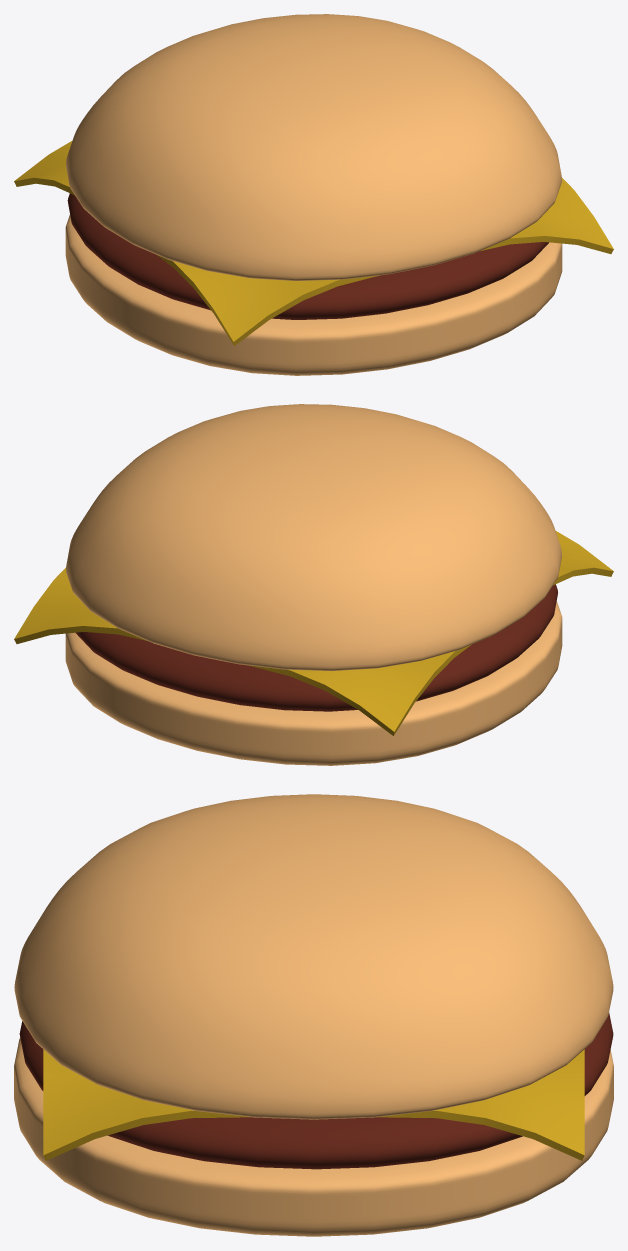
The model's file is hamburgerCompr.glb.
The picture shows the model from 3 angles, top to bottom: view 1: azimuth 30°, elevation 25°; view 2: azimuth 150°, elevation 25°; view 3: azimuth 270°, elevation 25°; orthographic projection. The views are drawn at different scales.
Parts seen in each view (by area): view 1: Куб.002, Куб, Куб.001, Плоскость; view 2: Куб.002, Куб, Куб.001, Плоскость; view 3: Куб.002, Куб, Куб.001, Плоскость.
Boxes of the visible parts, x1,y1,x2,y2 form: Куб.002: [66, 14, 561, 280]; Куб: [65, 215, 562, 375]; Куб.001: [67, 193, 548, 319]; Плоскость: [14, 141, 613, 345]; Куб.002: [66, 404, 561, 670]; Куб: [65, 601, 562, 765]; Куб.001: [75, 584, 557, 711]; Плоскость: [14, 531, 613, 735]; Куб.002: [14, 794, 613, 1119]; Куб: [14, 1038, 613, 1236]; Куб.001: [19, 1012, 613, 1169]; Плоскость: [43, 1049, 584, 1160].
Bounding box in the file's own units: 9.17 × 4.87 × 9.17.
